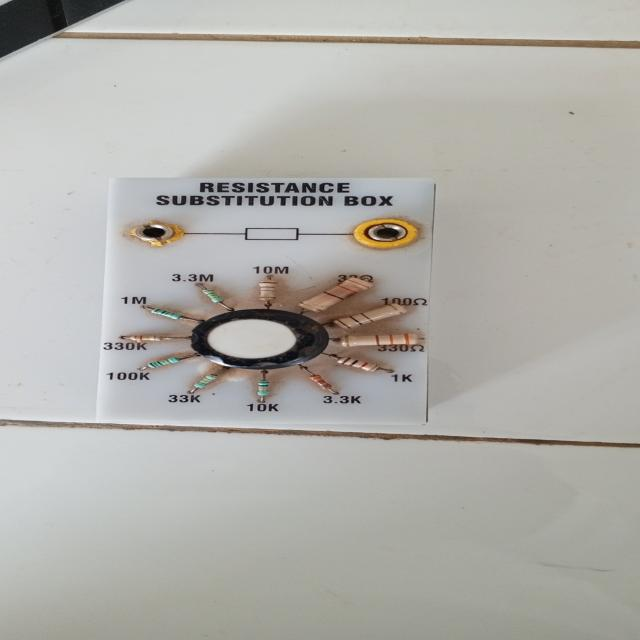Set of Resistances: (72, 167, 485, 436)
